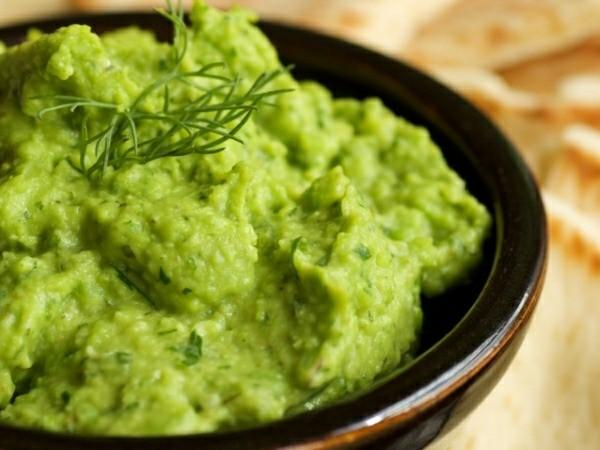GreenChutney: (0, 0, 491, 434)
